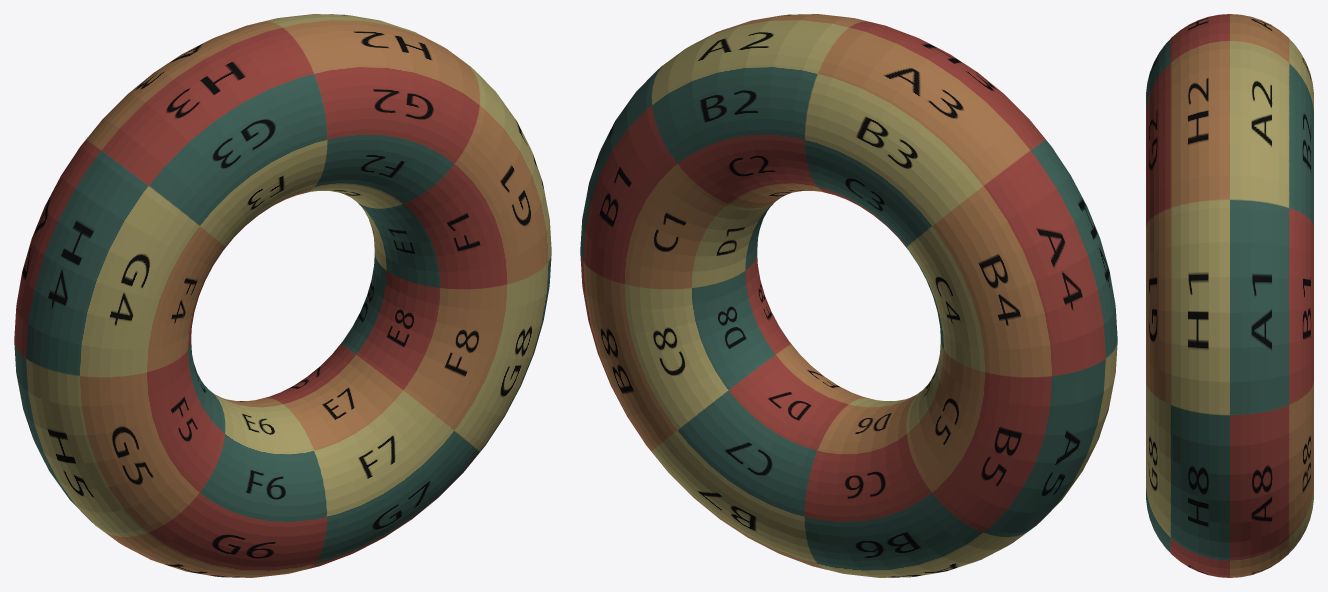
File: texture_torus_R9_r18.glb
3 views of the same model, side by side, from view 1: azimuth 30°, elevation 25°; view 2: azimuth 150°, elevation 25°; view 3: azimuth 270°, elevation 25° (orthographic). The views are drawn at different scales.
Parts seen in each view (by area): view 1: world; view 2: world; view 3: world.
Part boxes in pixels (left/top/right/bottom): world: left=14, top=14, right=551, bottom=577; world: left=580, top=14, right=1117, bottom=577; world: left=1146, top=14, right=1313, bottom=577.
Bounding box in the file's own units: 22.8 × 22.76 × 6.79.
1 material, 1 textured.
